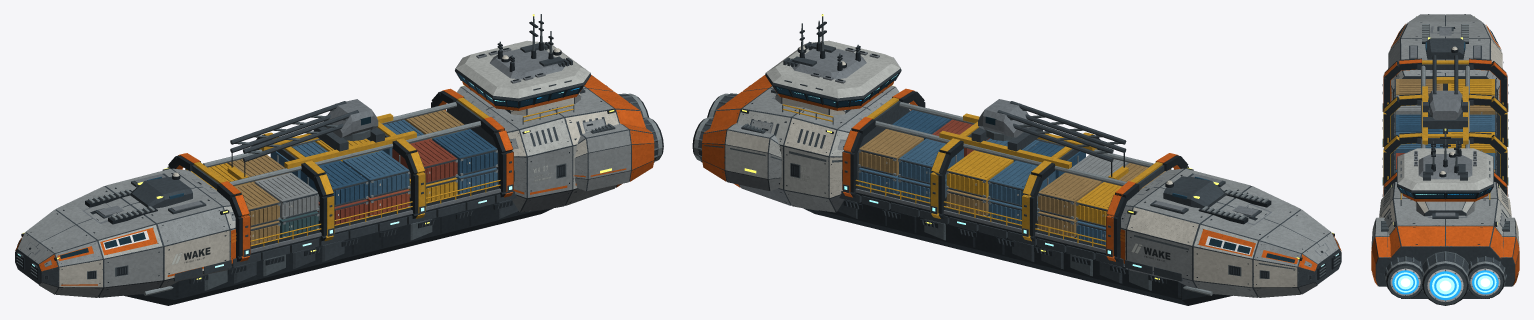
File: wake-cargueiro.glb
The picture shows the model from 3 angles, left to right: view 1: azimuth 30°, elevation 25°; view 2: azimuth 150°, elevation 25°; view 3: azimuth 270°, elevation 25°; orthographic projection. The views are drawn at different scales.
Parts seen in each view (by area): view 1: 02 | Proa blindada, 06 | Castelo de popa, 01 | Espinha e quilha, 05 | Guindaste de convés, 04 | Pórticos de carga, 07 | Passadiço panorâmico, 03.3 | Porão e contêineres, 03.2 | Porão e contêineres, 03.1 | Porão e contêineres, 10 | Painéis de inspeção e ferragens, 09 | Escotilhas e luzes de navegação, 08 | Três propulsores; view 2: 02 | Proa blindada, 06 | Castelo de popa, 01 | Espinha e quilha, 05 | Guindaste de convés, 04 | Pórticos de carga, 07 | Passadiço panorâmico, 03.3 | Porão e contêineres, 03.2 | Porão e contêineres, 03.1 | Porão e contêineres, 10 | Painéis de inspeção e ferragens, 09 | Escotilhas e luzes de navegação, 08 | Três propulsores; view 3: 06 | Castelo de popa, 07 | Passadiço panorâmico, 04 | Pórticos de carga, 08 | Três propulsores, 02 | Proa blindada, 05 | Guindaste de convés, 03.2 | Porão e contêineres, 03.1 | Porão e contêineres, 10 | Painéis de inspeção e ferragens, 09 | Escotilhas e luzes de navegação, 03.3 | Porão e contêineres.
Boxes of the visible parts, box(x1,y1,x2,y2) form: 02 | Proa blindada: box(15, 168, 235, 297); 06 | Castelo de popa: box(446, 75, 654, 212); 01 | Espinha e quilha: box(124, 181, 552, 305); 05 | Guindaste de convés: box(203, 99, 480, 185); 04 | Pórticos de carga: box(167, 88, 513, 261); 07 | Passadiço panorâmico: box(455, 14, 591, 115); 03.3 | Porão e contêineres: box(366, 110, 500, 212); 03.2 | Porão e contêineres: box(270, 138, 412, 234); 03.1 | Porão e contêineres: box(185, 154, 321, 254); 10 | Painéis de inspeção e ferragens: box(16, 42, 629, 296); 09 | Escotilhas e luzes de navegação: box(21, 85, 615, 260); 08 | Três propulsores: box(606, 85, 663, 162); 02 | Proa blindada: box(1120, 168, 1341, 297); 06 | Castelo de popa: box(702, 75, 909, 212); 01 | Espinha e quilha: box(803, 181, 1232, 305); 05 | Guindaste de convés: box(875, 99, 1153, 185); 04 | Pórticos de carga: box(842, 88, 1188, 261); 07 | Passadiço panorâmico: box(765, 14, 901, 115); 03.3 | Porão e contêineres: box(855, 110, 989, 212); 03.2 | Porão e contêineres: box(943, 138, 1085, 234); 03.1 | Porão e contêineres: box(1035, 154, 1171, 254); 10 | Painéis de inspeção e ferragens: box(723, 41, 1340, 297); 09 | Escotilhas e luzes de navegação: box(740, 85, 1334, 260); 08 | Três propulsores: box(692, 93, 737, 162); 06 | Castelo de popa: box(1371, 182, 1519, 298); 07 | Passadiço panorâmico: box(1397, 128, 1493, 216); 04 | Pórticos de carga: box(1382, 58, 1508, 196); 08 | Três propulsores: box(1383, 251, 1506, 305); 02 | Proa blindada: box(1388, 14, 1503, 101); 05 | Guindaste de convés: box(1421, 55, 1469, 148); 03.2 | Porão e contêineres: box(1387, 114, 1503, 176); 03.1 | Porão e contêineres: box(1387, 79, 1503, 144); 10 | Painéis de inspeção e ferragens: box(1384, 14, 1506, 255); 09 | Escotilhas e luzes de navegação: box(1391, 16, 1499, 226); 03.3 | Porão e contêineres: box(1387, 153, 1503, 179).
Size of the model in its own units: 23.7 by 6.62 by 5.78.
26 materials, 22 textured.
